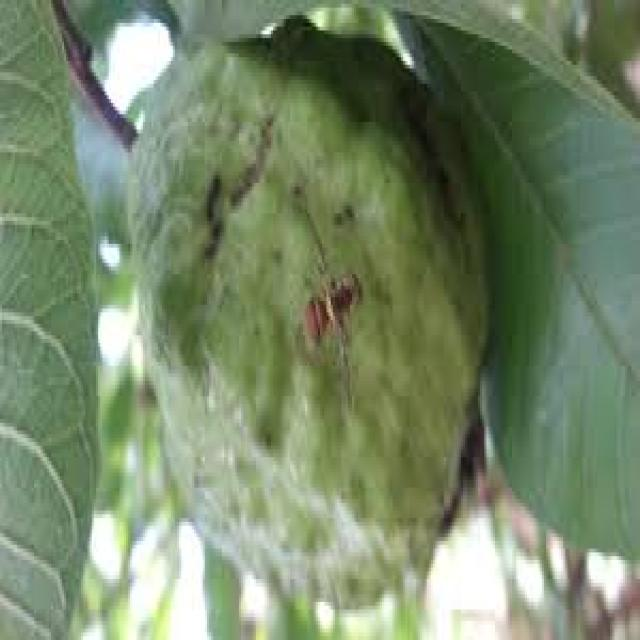fruit fly: (290, 240, 371, 423)
